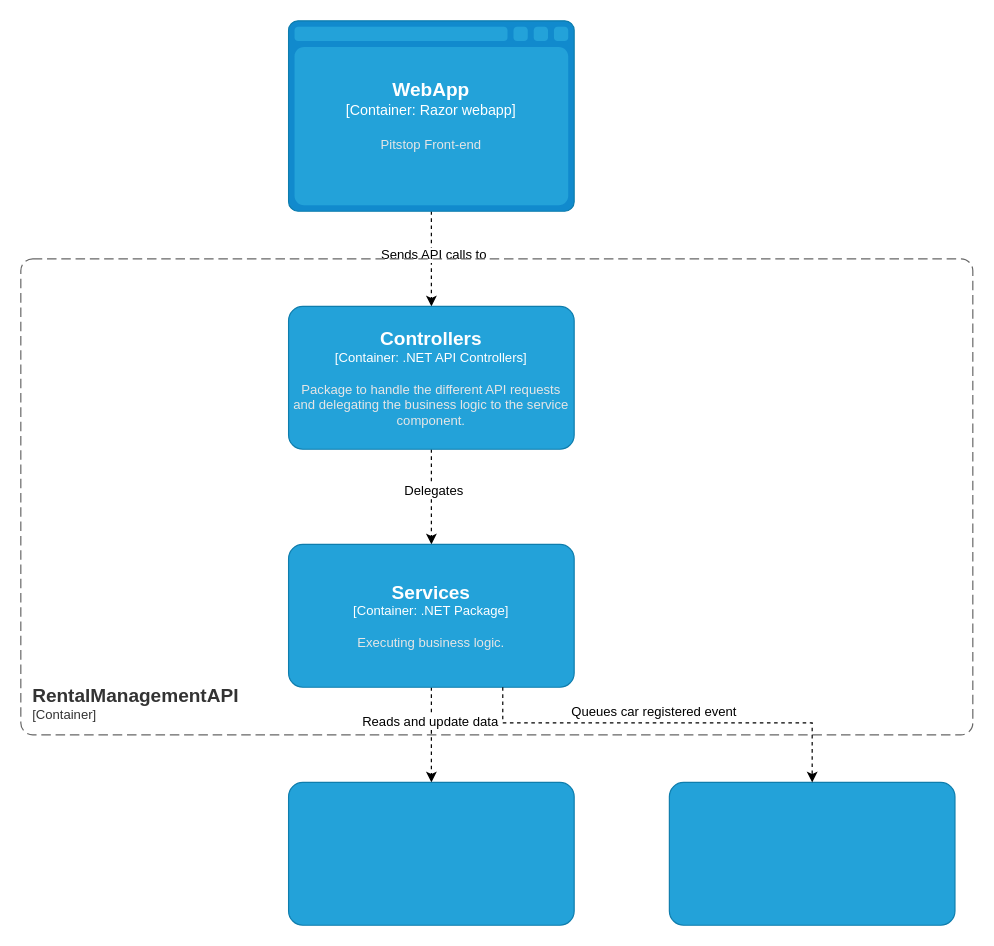
Some shapes in this 994 by 946 pixel diagram are drawn without their labels. Here are the shapes that lost their labels. From the top down, the centre of each, then its label:
At [430,853]: "RentalCarManagement [Container: SQL Server 2019] Stores the data of the rentals.".
At [811,853]: "RabbitMQ [Container: RabbitMQ] Sends events to the correct exchanges and queues.".
